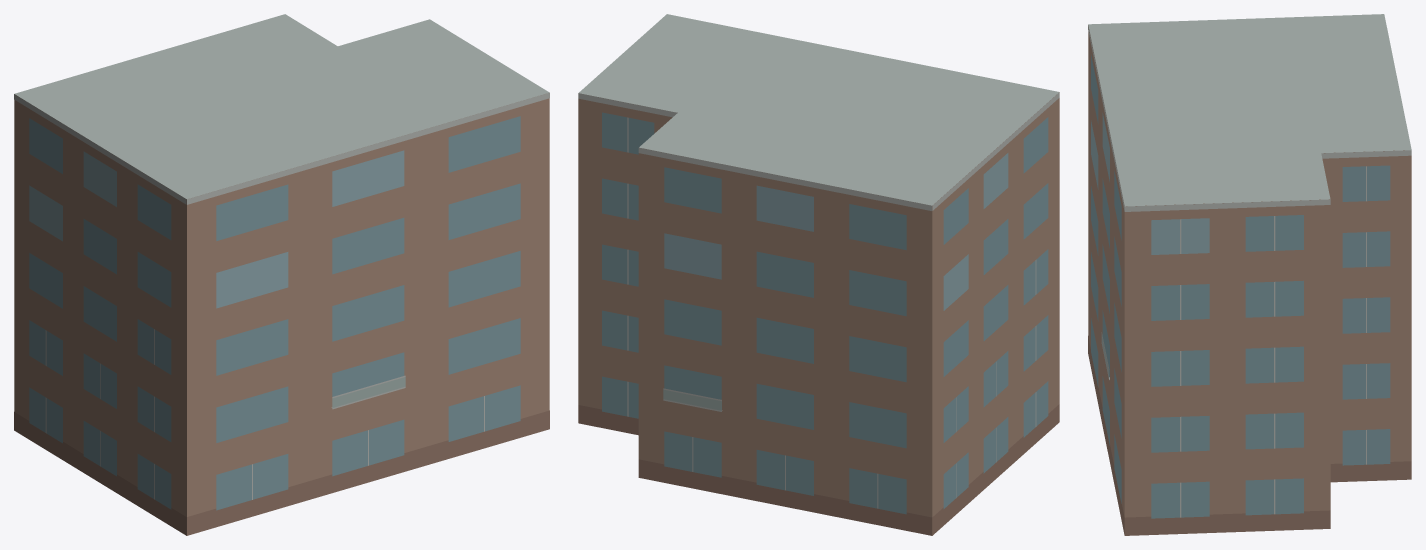
File: survey-upis-32759655.glb
3 views of the same model, side by side, from view 1: azimuth 30°, elevation 25°; view 2: azimuth 150°, elevation 25°; view 3: azimuth 270°, elevation 25° (orthographic). The views are drawn at different scales.
Visible parts, largest first — view 1: survey-upis-32759655.tmp; view 2: survey-upis-32759655.tmp; view 3: survey-upis-32759655.tmp.
Part boxes in pixels (<box>): survey-upis-32759655.tmp: <box>14,14,549,535</box>; survey-upis-32759655.tmp: <box>578,14,1059,535</box>; survey-upis-32759655.tmp: <box>1088,14,1411,535</box>.
Size of the model in its own units: 18.18 by 14.5 by 12.92.
